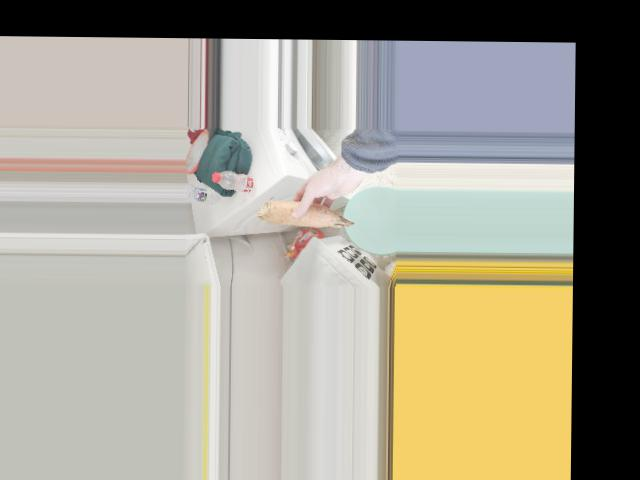sweet_potato: (254, 193, 356, 229)
